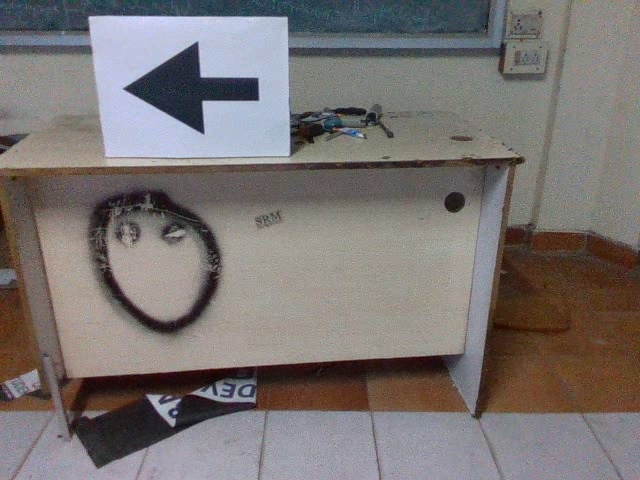Left: (118, 37, 264, 136)
